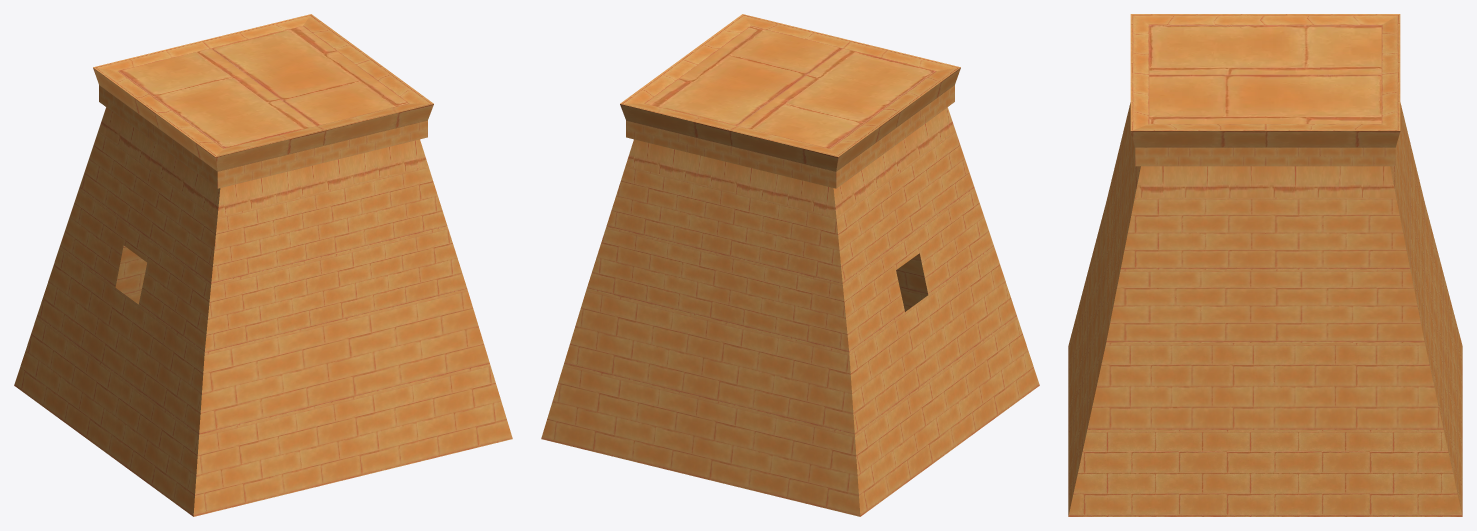
File: pm-temple-floor-04.glb
3 renders of one model, left to right at view 1: azimuth 30°, elevation 25°; view 2: azimuth 150°, elevation 25°; view 3: azimuth 270°, elevation 25°, orthographic. The views are drawn at different scales.
Visible parts, largest first — view 1: TempleFloor04_Art; view 2: TempleFloor04_Art; view 3: TempleFloor04_Art.
Boxes of the visible parts, left/top/right/bottom form: TempleFloor04_Art: left=14, top=14, right=512, bottom=516; TempleFloor04_Art: left=541, top=14, right=1039, bottom=516; TempleFloor04_Art: left=1068, top=14, right=1462, bottom=516.
Bounding box in the file's own units: 37.03 × 36.21 × 36.04.
Materials: 2 (2 with a texture image).
